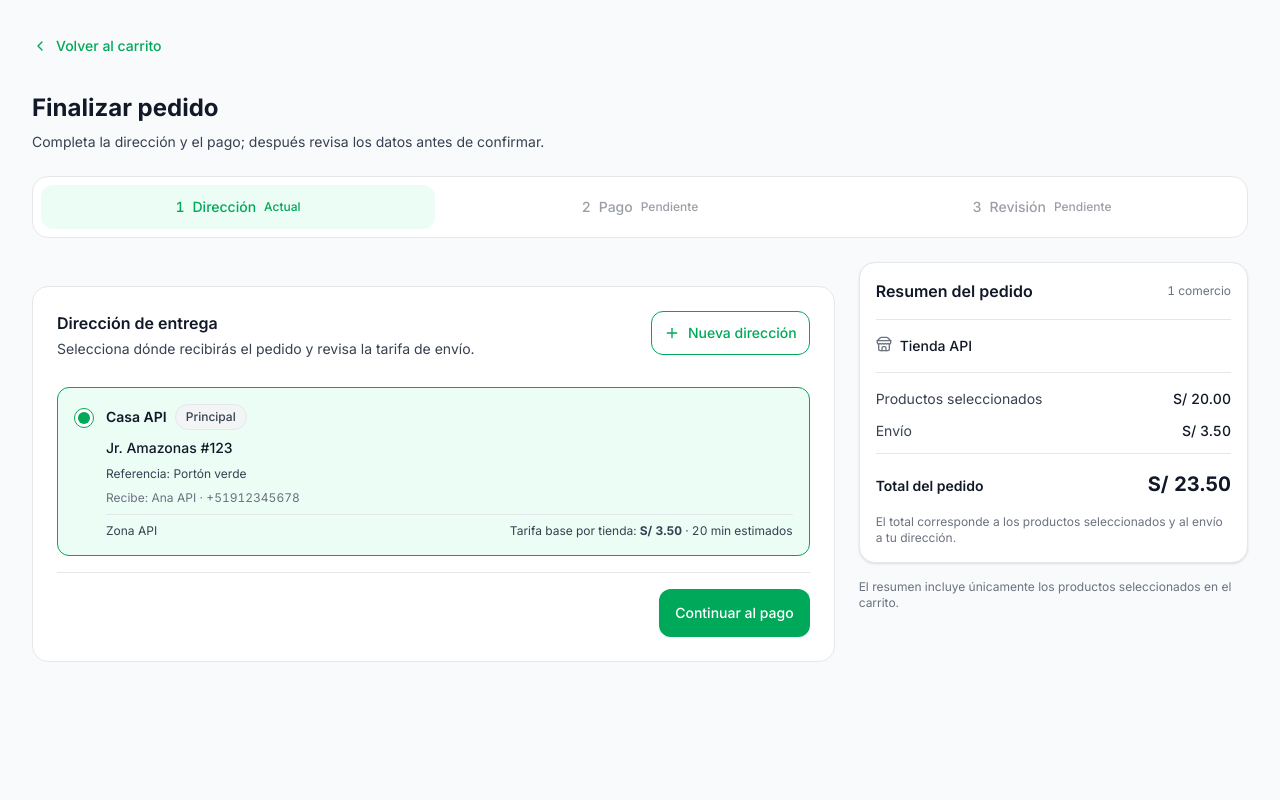
Checkout original con API › respeta la indisponibilidad de efectivo informada por la API
Click the button "Continuar al pago": x=734, y=613 x1=659 y1=589 x2=810 y2=637
(page scrolled)
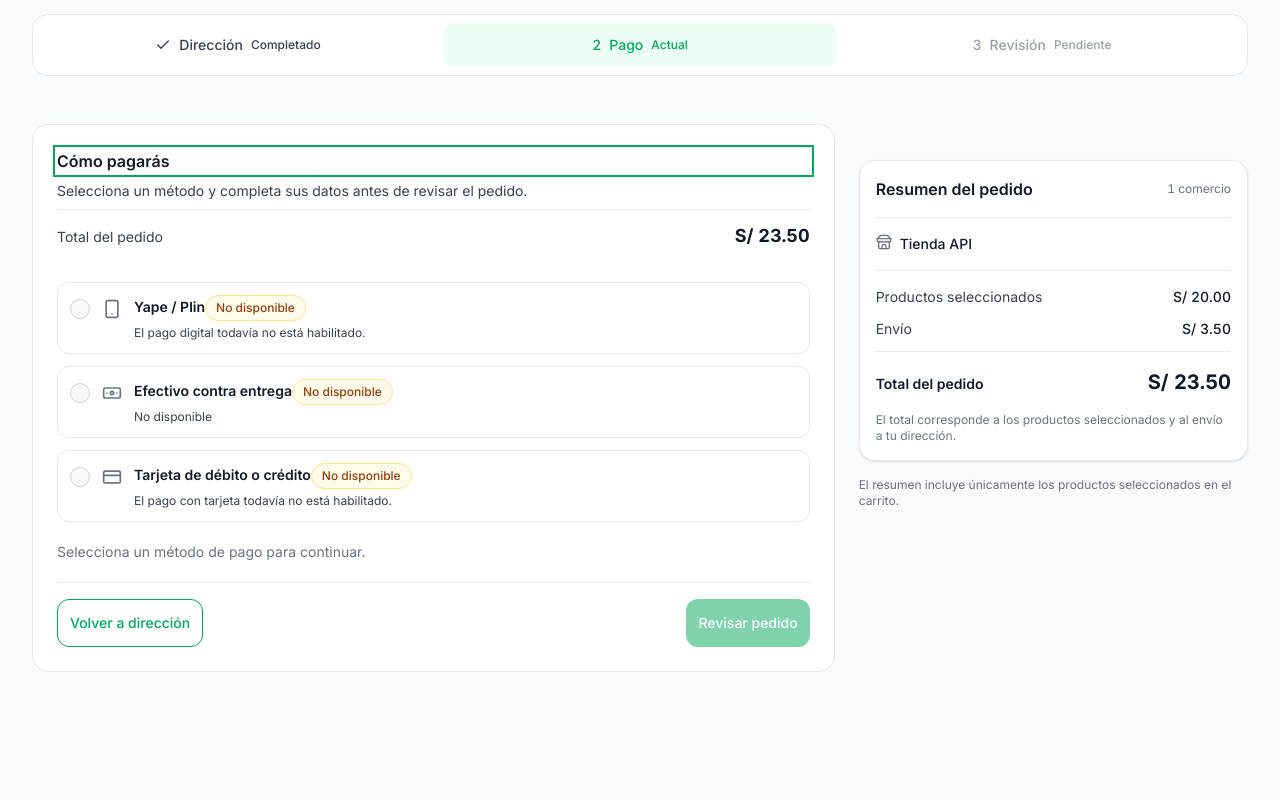
Check: the radio button labelled "Efectivo contra entrega" is disabled, box x1=70 y1=383 x2=90 y2=403
Check: the button "Revisar pedido" is disabled, box x1=686 y1=599 x2=810 y2=647
